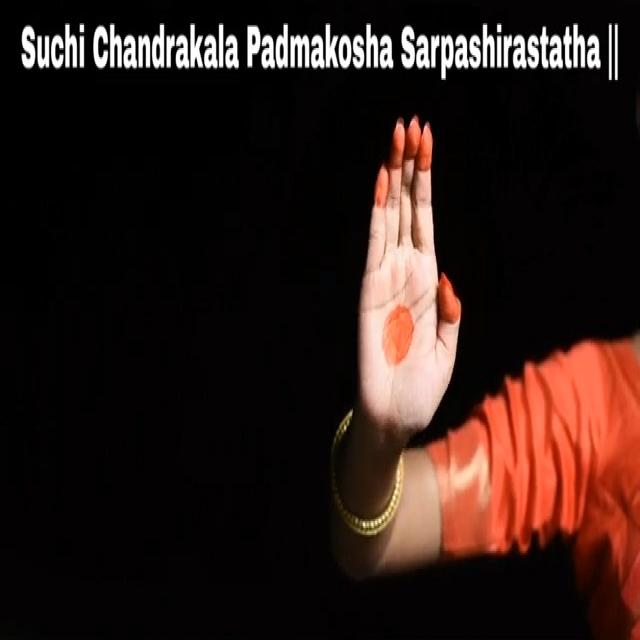Sarpashirsha: (345, 92, 475, 453)
bangle: (318, 422, 412, 539)
text: (12, 5, 624, 94)
